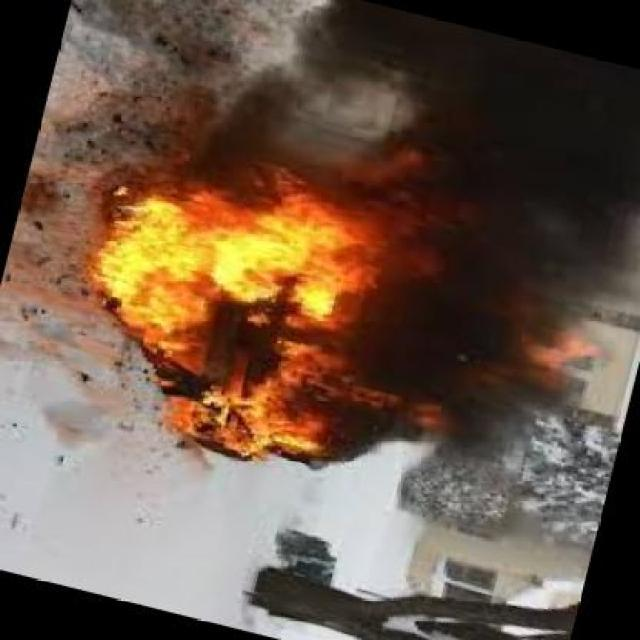Fire: (90, 170, 370, 453)
Smoke: (373, 50, 640, 416), (203, 6, 419, 160)
